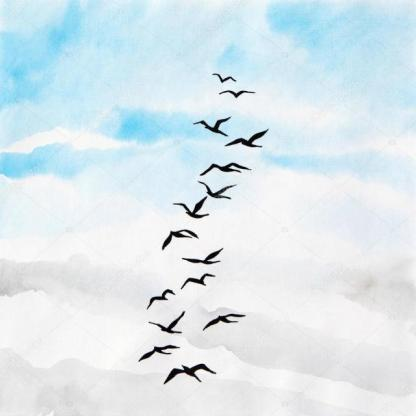bird: (161, 356, 224, 391), (176, 243, 245, 272), (144, 308, 194, 343), (190, 177, 244, 209), (224, 126, 276, 157), (193, 158, 255, 184), (130, 338, 189, 365), (158, 219, 201, 254), (173, 192, 217, 225), (142, 283, 183, 314), (200, 307, 248, 333), (186, 114, 233, 140), (177, 270, 220, 296), (217, 87, 259, 109), (210, 62, 241, 85)
